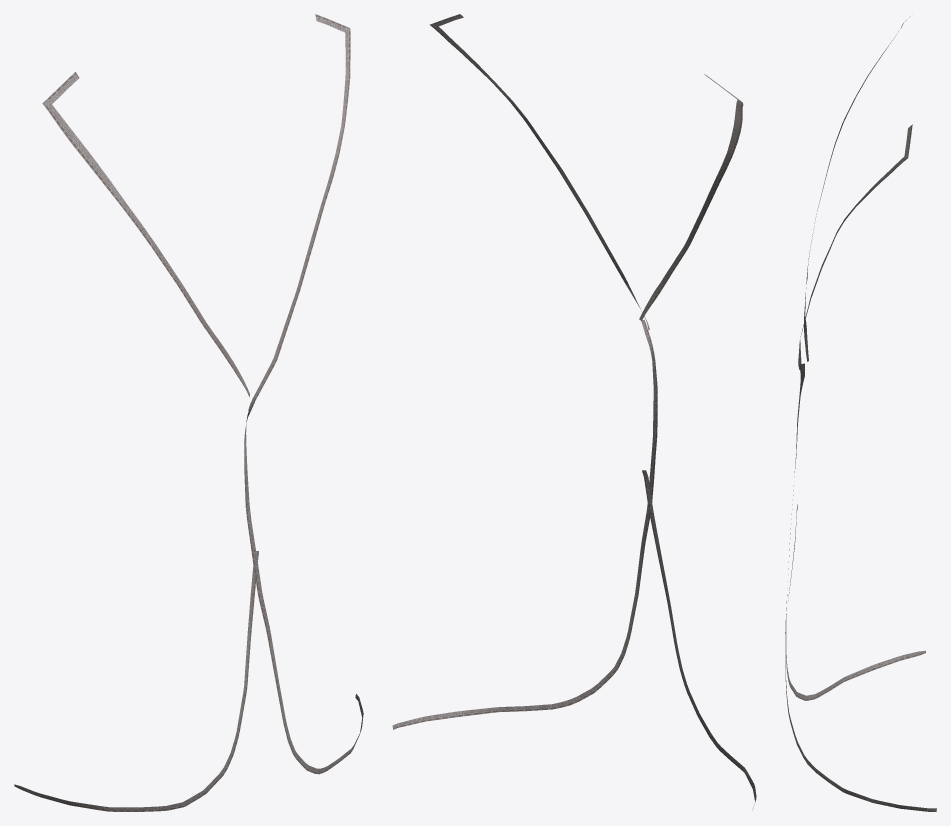
The model's file is notch_single_button_AMF 2mm.glb.
3 renders of one model, left to right at view 1: azimuth 30°, elevation 25°; view 2: azimuth 150°, elevation 25°; view 3: azimuth 270°, elevation 25°, orthographic. The views are drawn at different scales.
Parts seen in each view (by area): view 1: notch_single_button_AMF1; view 2: notch_single_button_AMF1; view 3: notch_single_button_AMF1.
Boxes of the visible parts, x1,y1,x2,y2 form: notch_single_button_AMF1: [14, 14, 363, 811]; notch_single_button_AMF1: [392, 14, 756, 809]; notch_single_button_AMF1: [785, 16, 936, 811].
Bounding box in the file's own units: 0.0474 × 0.0928 × 0.0191.
1 material, 1 textured.
